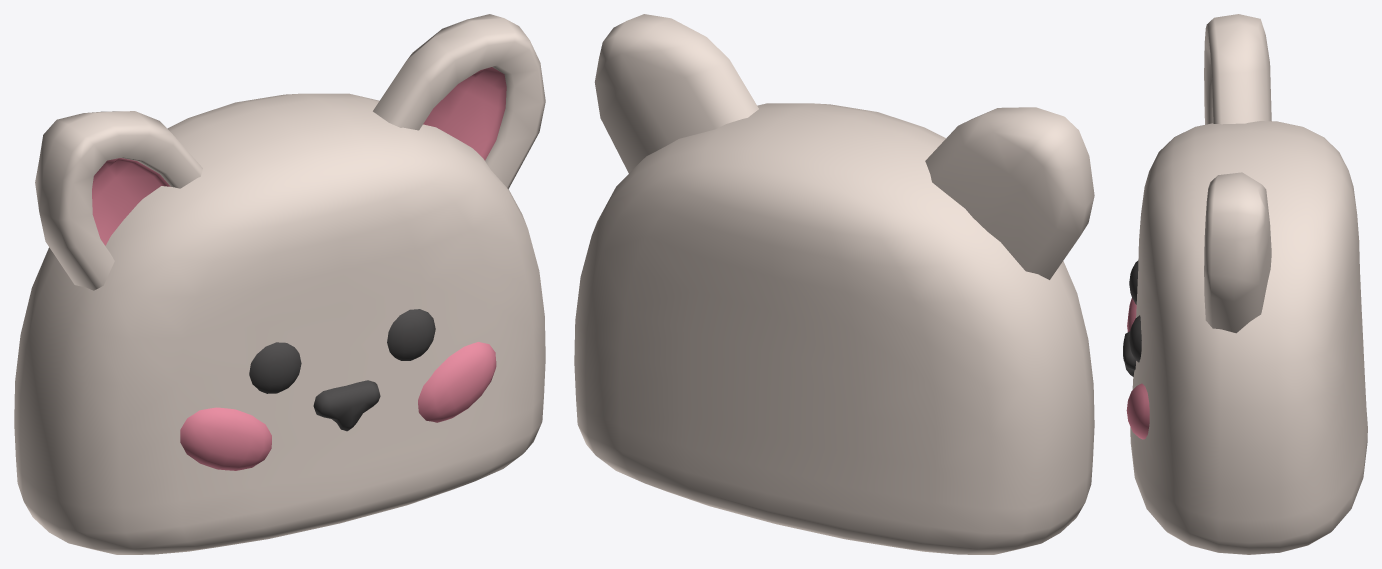
The model's file is Doll_Polar.glb.
3 renders of one model, left to right at view 1: azimuth 30°, elevation 25°; view 2: azimuth 150°, elevation 25°; view 3: azimuth 270°, elevation 25°, orthographic. The views are drawn at different scales.
Visible parts, largest first — view 1: Toy_Cat_1; view 2: Toy_Cat_1; view 3: Toy_Cat_1.
Boxes of the visible parts, x1,y1,x2,y2 form: Toy_Cat_1: (14, 14, 545, 554); Toy_Cat_1: (574, 14, 1094, 554); Toy_Cat_1: (1123, 14, 1367, 554).
Size of the model in its own units: 0.7616 by 0.6387 by 0.3769.
Materials: 1 (1 with a texture image).
